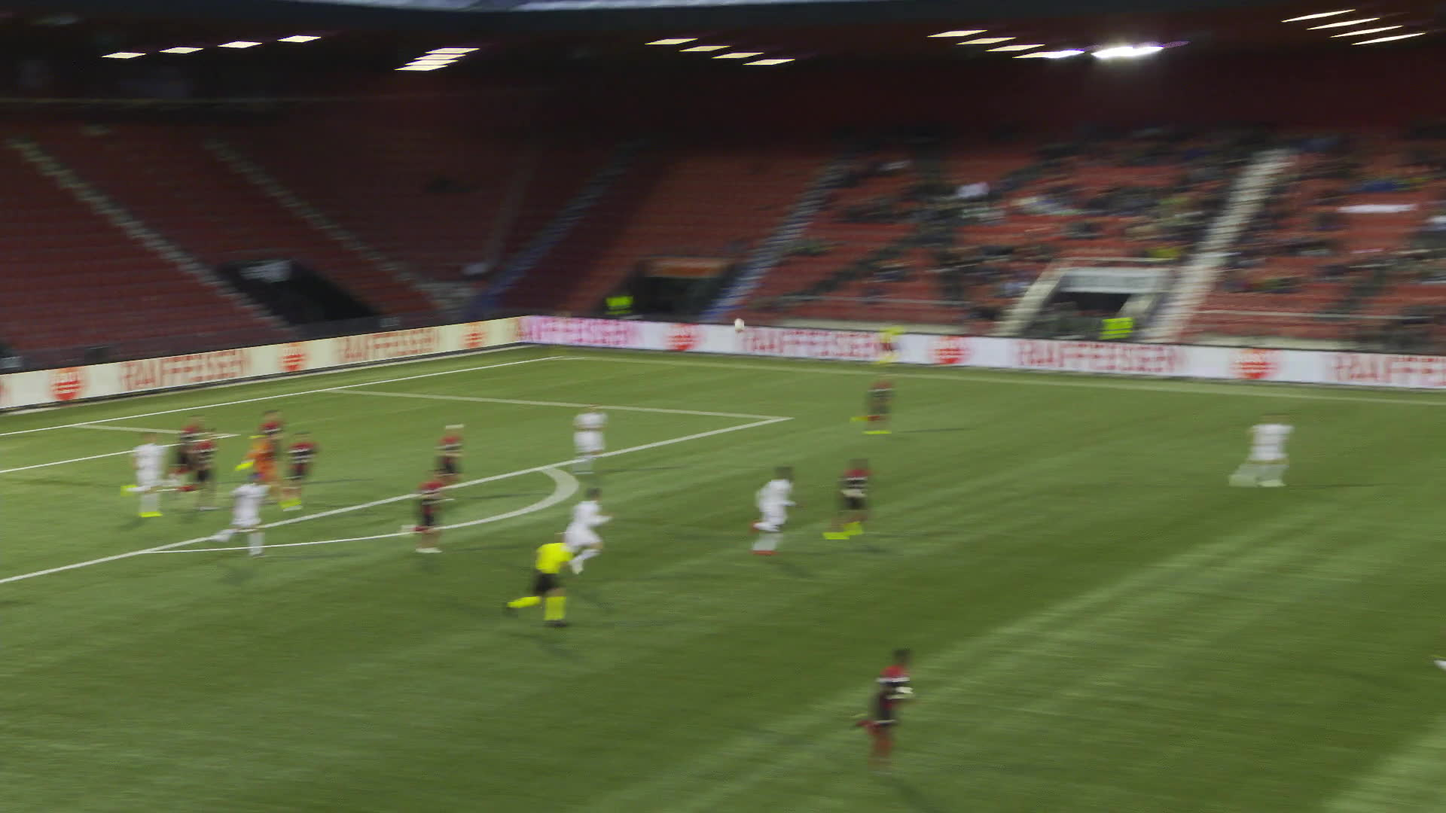ball: (731, 329, 742, 340)
player: (876, 644, 950, 770), (736, 461, 807, 550), (569, 482, 634, 577), (257, 423, 324, 509), (228, 467, 288, 558), (848, 451, 907, 536), (134, 428, 181, 512), (196, 425, 243, 505), (425, 464, 470, 547), (180, 409, 227, 483), (885, 363, 934, 431), (593, 394, 636, 470), (304, 427, 347, 499), (1258, 423, 1310, 480), (275, 402, 311, 474), (454, 416, 491, 486), (1432, 659, 1445, 671)
referee: (532, 531, 603, 628), (905, 313, 943, 364)
